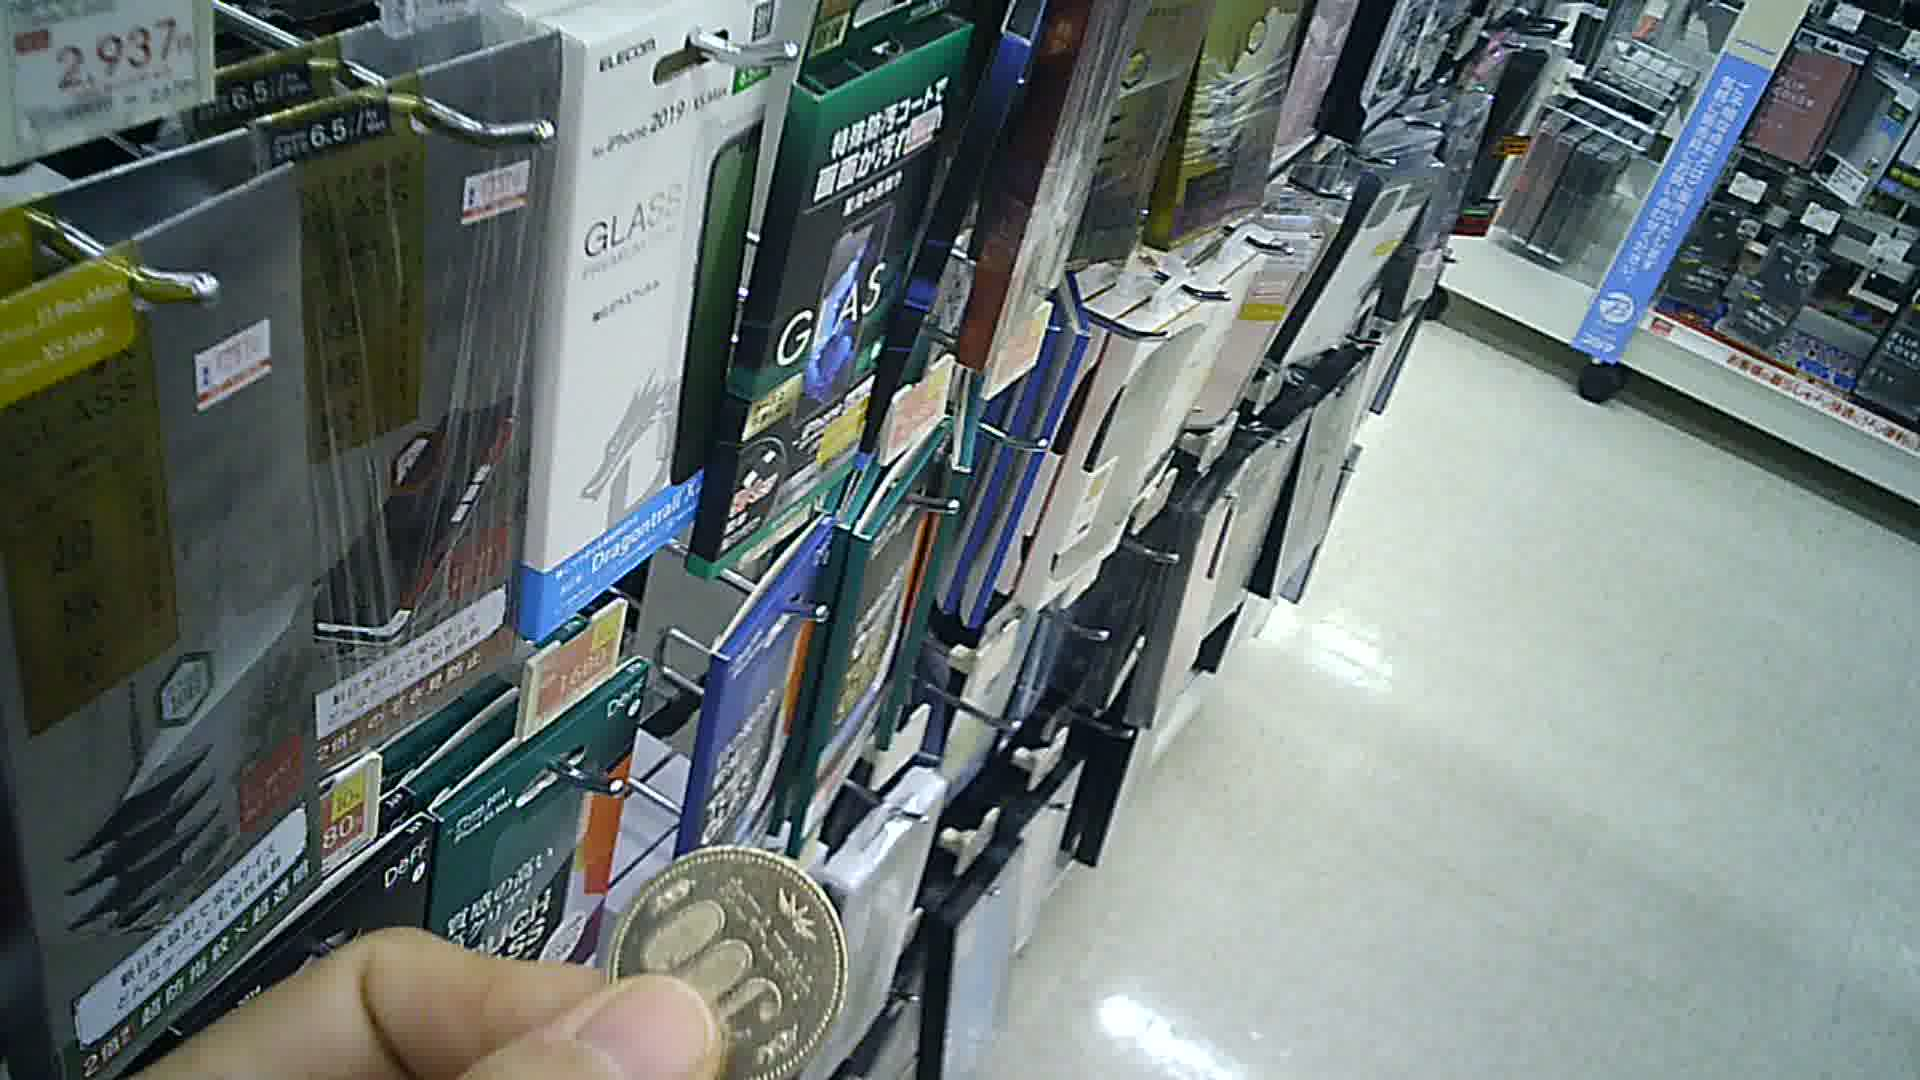500 Yen: (603, 847, 856, 1079)
